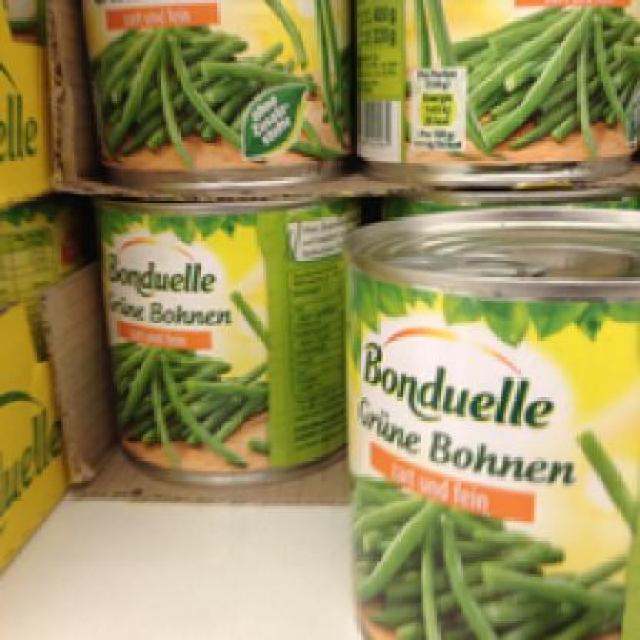Beans: (340, 212, 631, 638), (89, 203, 337, 492), (74, 0, 340, 180), (352, 0, 638, 157)
